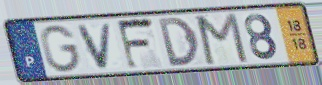8: (243, 12, 280, 61)
D: (155, 15, 201, 69)
F: (115, 16, 158, 72)
G: (38, 23, 84, 74)
M: (195, 11, 251, 67)
V: (75, 21, 115, 71)
